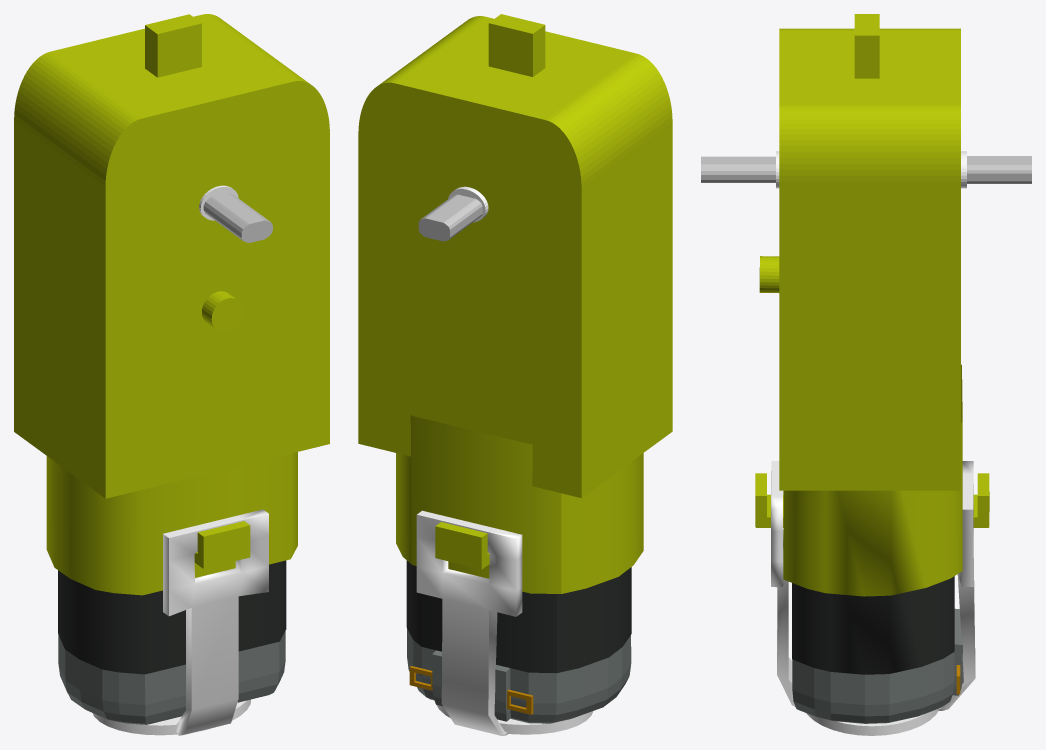
File: motor.gltf
3 renders of one model, left to right at view 1: azimuth 30°, elevation 25°; view 2: azimuth 150°, elevation 25°; view 3: azimuth 270°, elevation 25°, orthographic.
Bounding box in the file's own units: 29.53 × 88.82 × 38.01.
